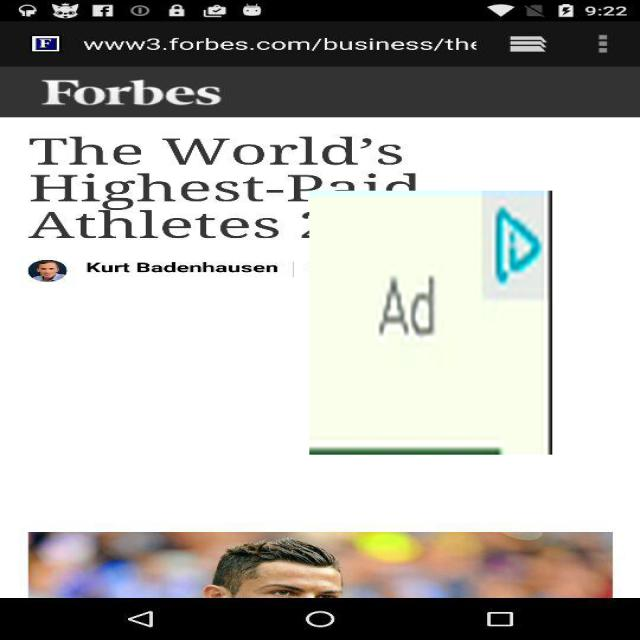sneaking: (310, 190, 552, 454)
